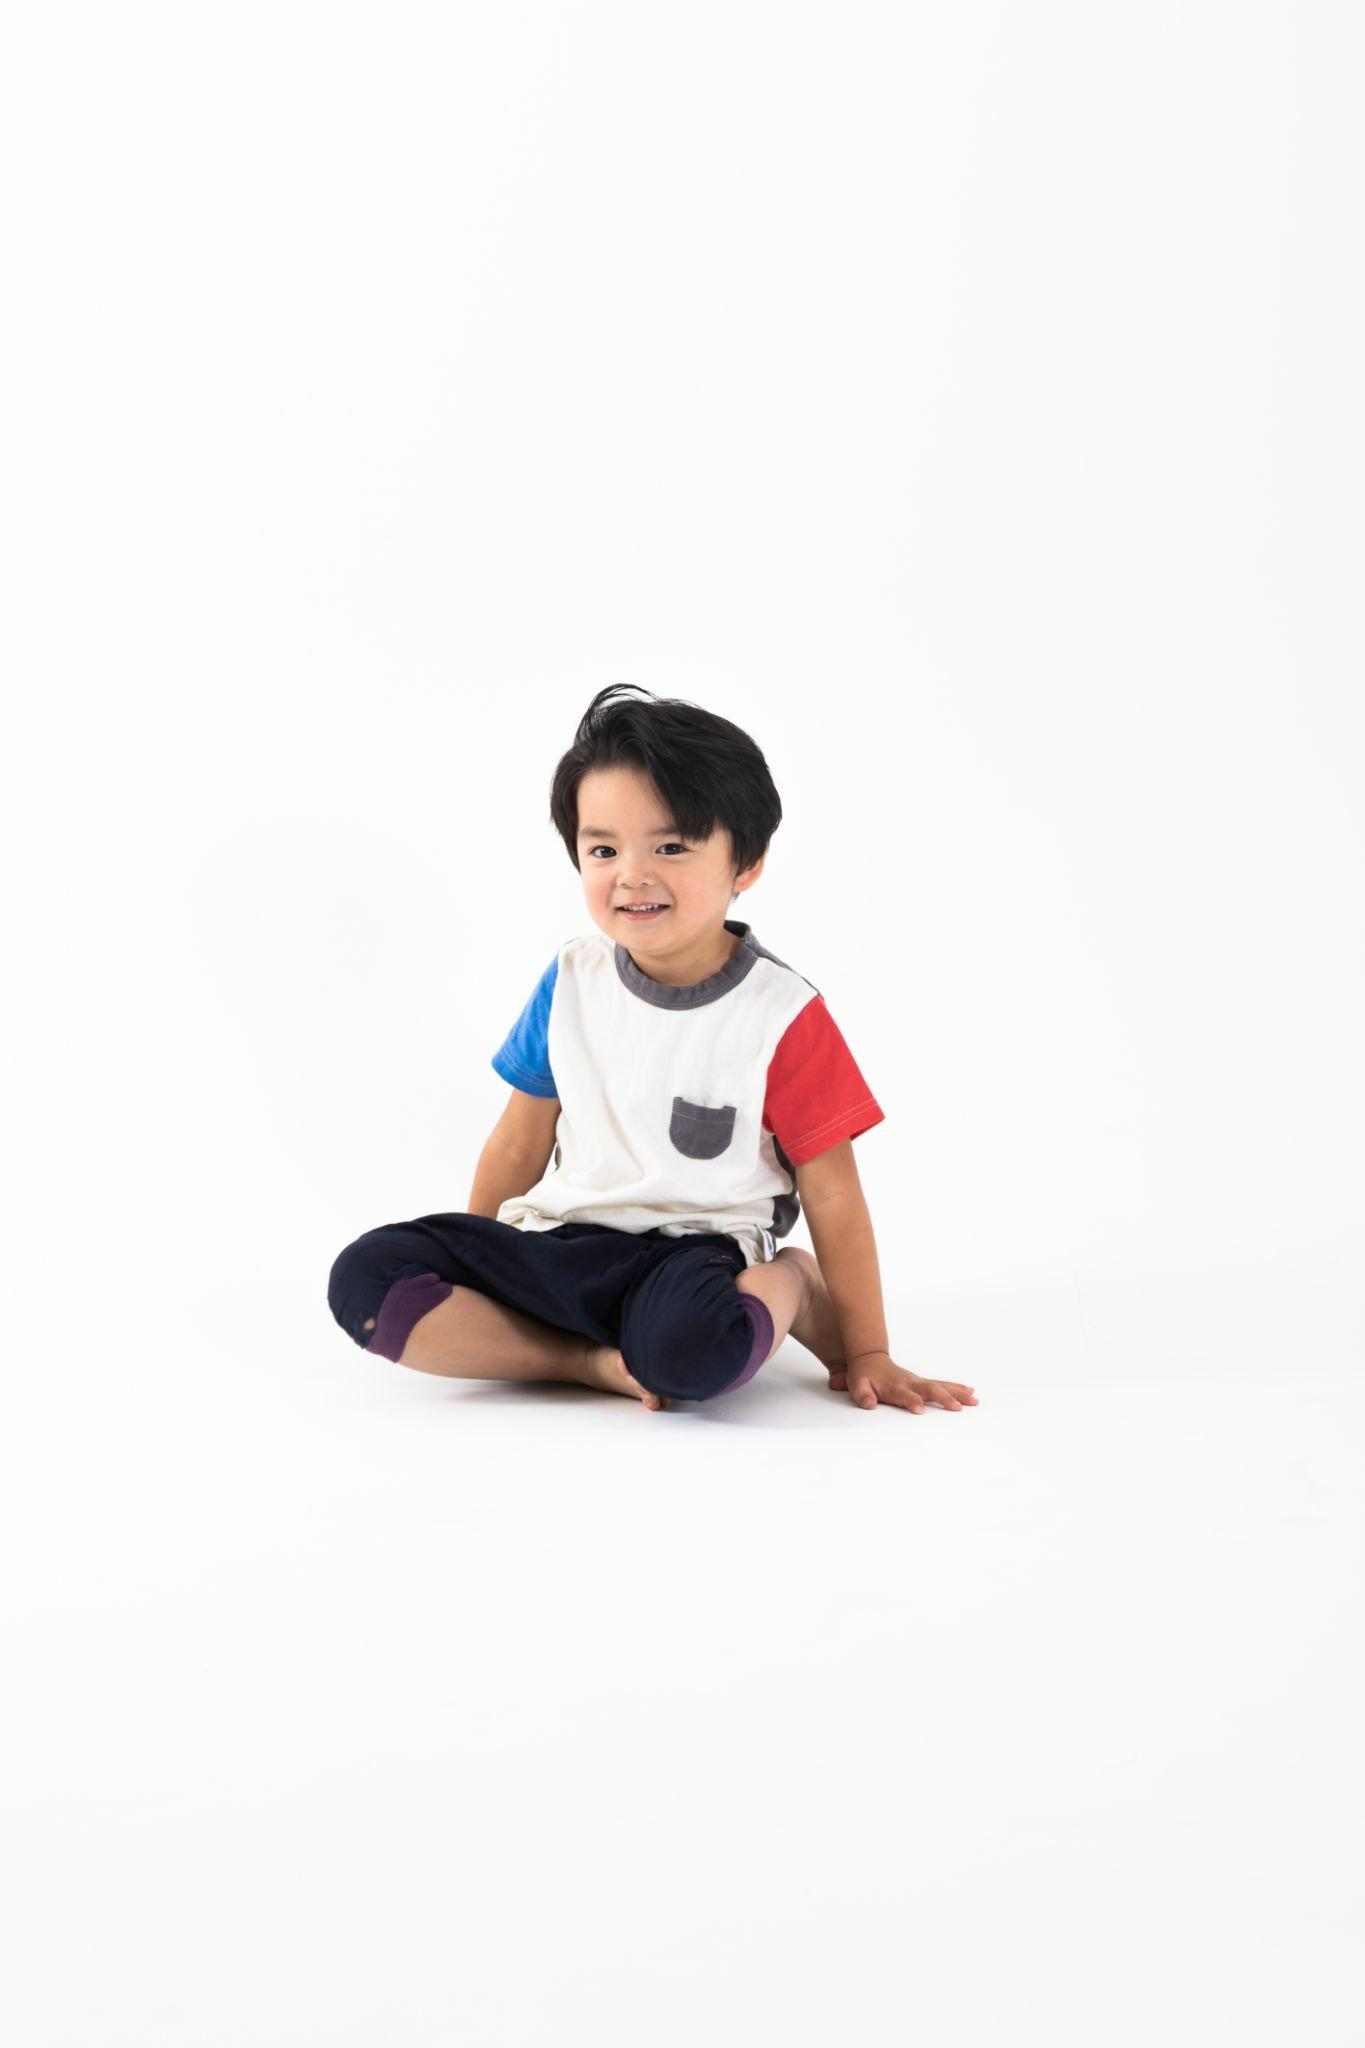Healthy: (547, 691, 769, 985)
